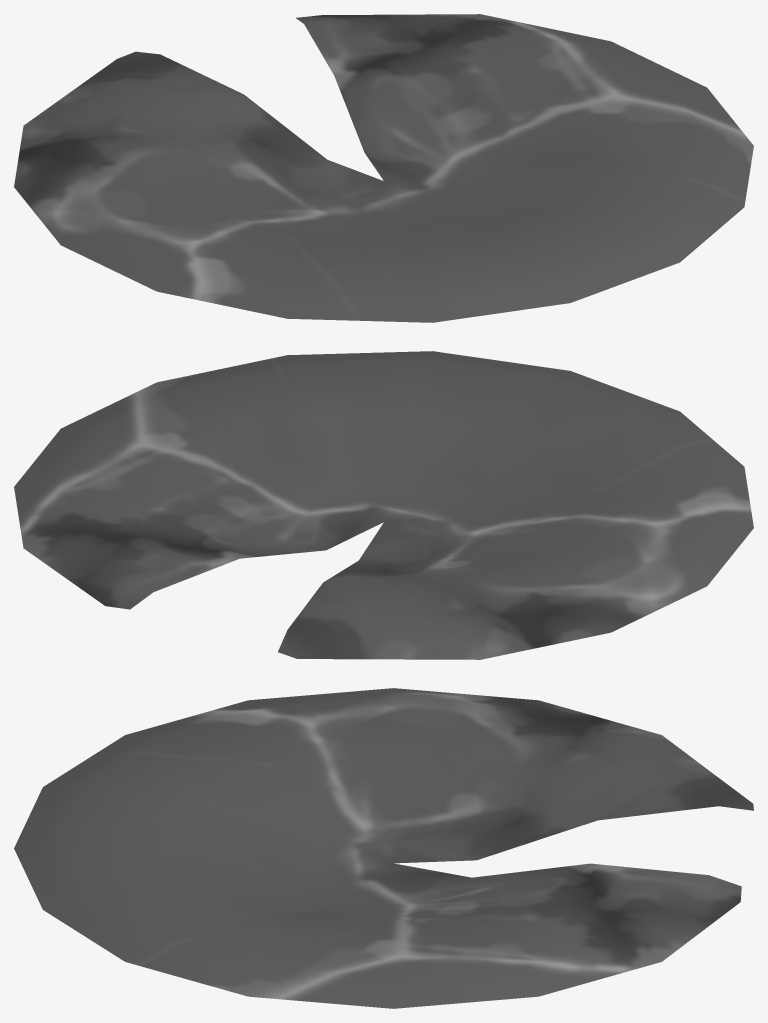
The model's file is NenufarNoFlower.fbx.
3 views of the same model, one above another, from view 1: azimuth 30°, elevation 25°; view 2: azimuth 150°, elevation 25°; view 3: azimuth 270°, elevation 25° (orthographic).
Parts seen in each view (by area): view 1: Plane.005; view 2: Plane.005; view 3: Plane.005.
Boxes of the visible parts, left/top/right/bottom form: Plane.005: left=14, top=14, right=753, bottom=322; Plane.005: left=14, top=351, right=753, bottom=659; Plane.005: left=14, top=688, right=753, bottom=1008.
Bounding box in the file's own units: 880 × 38.79 × 858.
